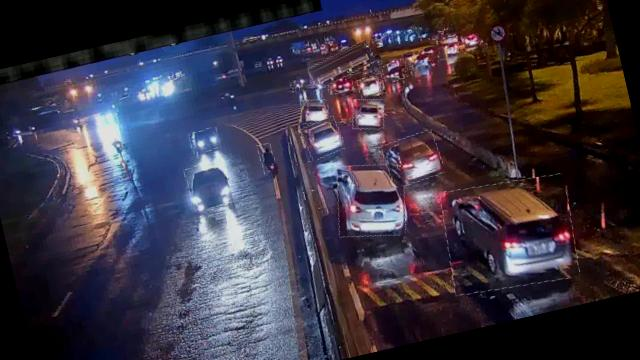Bike: (258, 143, 278, 175)
Car: (436, 168, 584, 302), (328, 155, 416, 245), (382, 130, 446, 188), (184, 159, 233, 212), (300, 116, 345, 161), (349, 95, 388, 134), (298, 96, 332, 127), (188, 127, 222, 155), (381, 58, 410, 84), (356, 74, 386, 99), (327, 72, 355, 96)
Truck: (306, 43, 377, 87)
